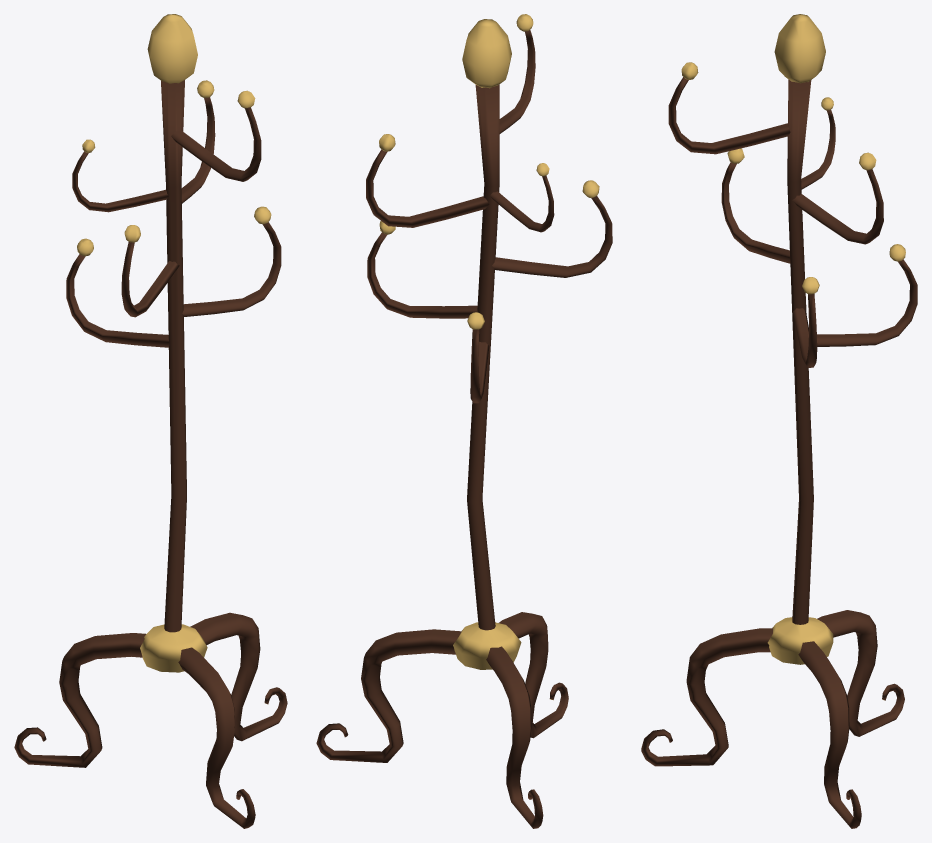
File: MiscCoatRackUV.fbx
3 views of the same model, side by side, from view 1: azimuth 30°, elevation 25°; view 2: azimuth 150°, elevation 25°; view 3: azimuth 270°, elevation 25° (orthographic).
Parts seen in each view (by area): view 1: CoatHanger3; view 2: CoatHanger3; view 3: CoatHanger3.
Boxes of the visible parts, box(x1,y1,x2,y2) form: CoatHanger3: box(14, 14, 287, 828); CoatHanger3: box(316, 14, 612, 828); CoatHanger3: box(641, 14, 917, 828).
Size of the model in its own units: 113 by 328 by 110.
